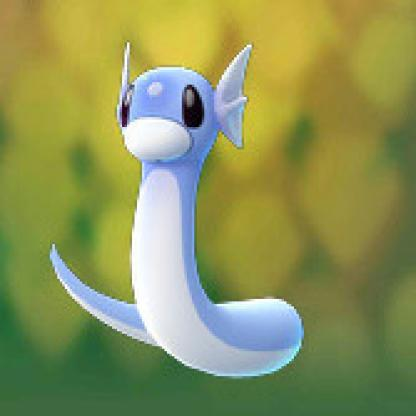Dratini: (44, 22, 309, 385)
